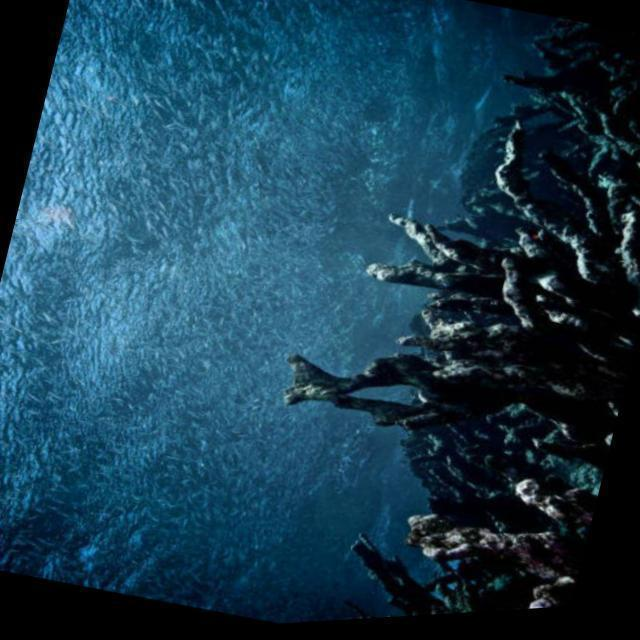Dead Coral: (227, 0, 640, 629)
